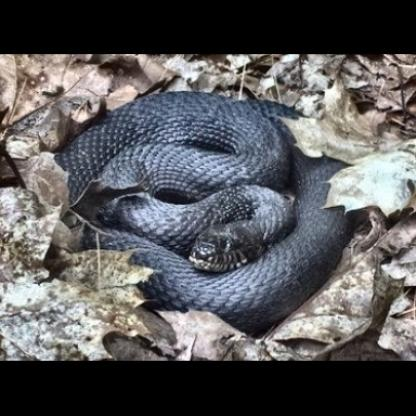Snake: (52, 93, 352, 324)
